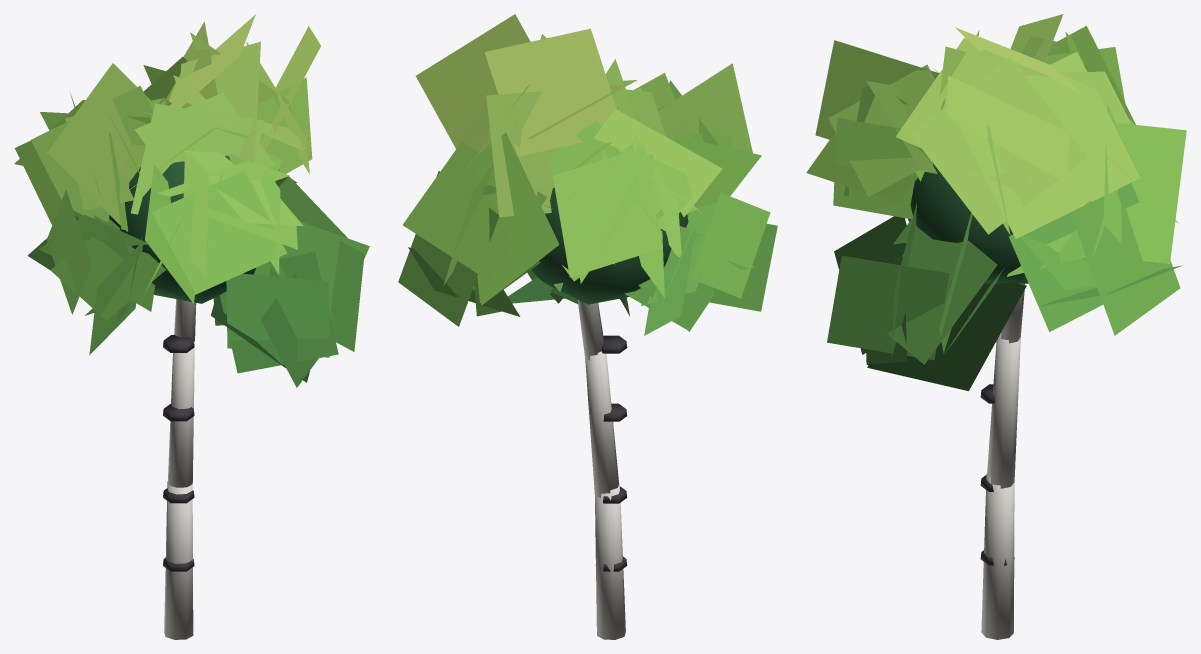
The model's file is tree_birch.glb.
3 views of the same model, side by side, from view 1: azimuth 30°, elevation 25°; view 2: azimuth 150°, elevation 25°; view 3: azimuth 270°, elevation 25° (orthographic). The views are drawn at different scales.
Visible parts, largest first — view 1: Leaves, Tree; view 2: Leaves, Tree; view 3: Leaves, Tree.
Boxes of the visible parts, <box> form: Leaves: <box>14,14,369,387</box>; Tree: <box>109,155,256,639</box>; Leaves: <box>398,14,777,335</box>; Tree: <box>531,187,688,639</box>; Leaves: <box>806,14,1186,391</box>; Tree: <box>908,162,1028,639</box>.
Bounding box in the file's own units: 2.24 × 4.27 × 2.35.
